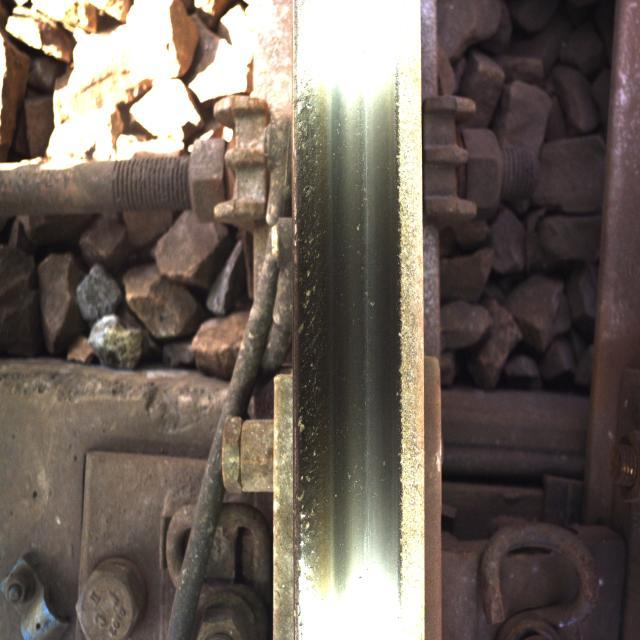normal: (290, 51, 382, 591)
